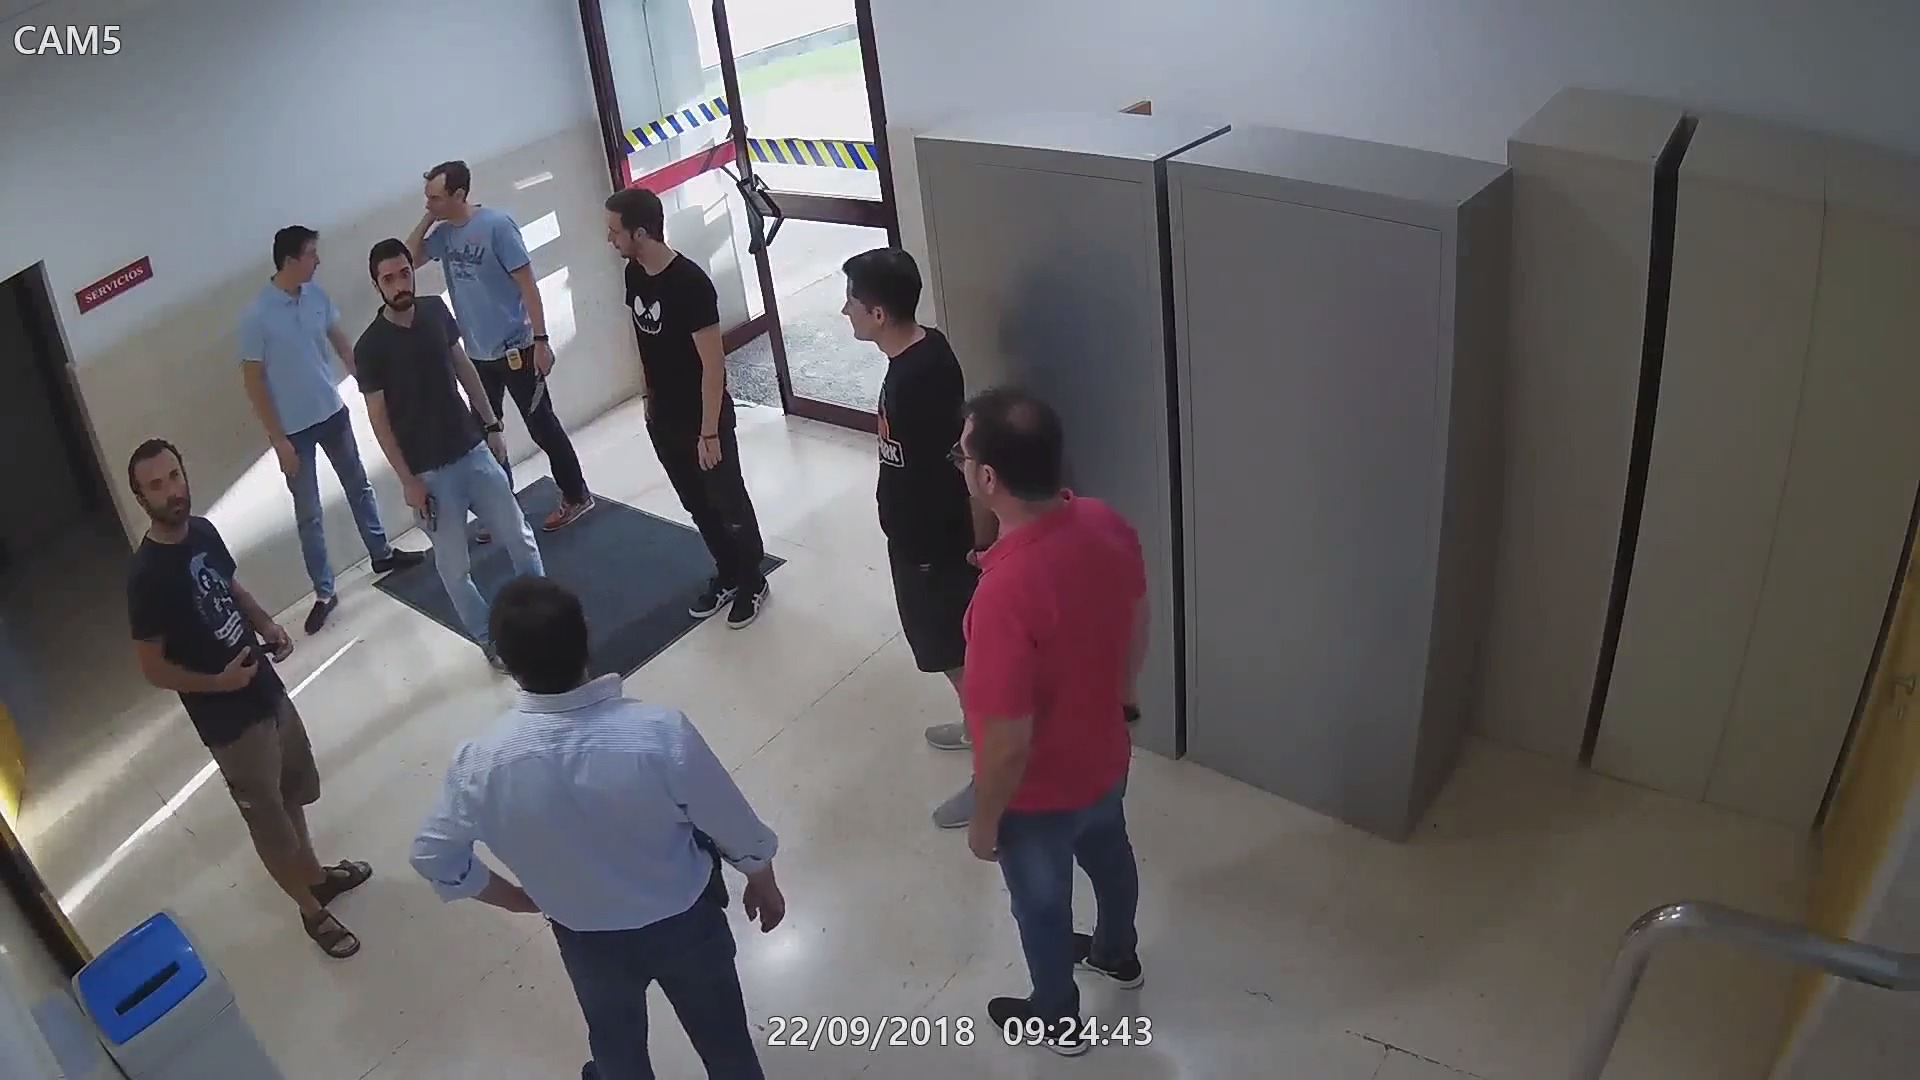Handgun: (224, 637, 287, 699), (692, 819, 732, 909), (401, 473, 444, 534)
Knife: (524, 339, 560, 417)
